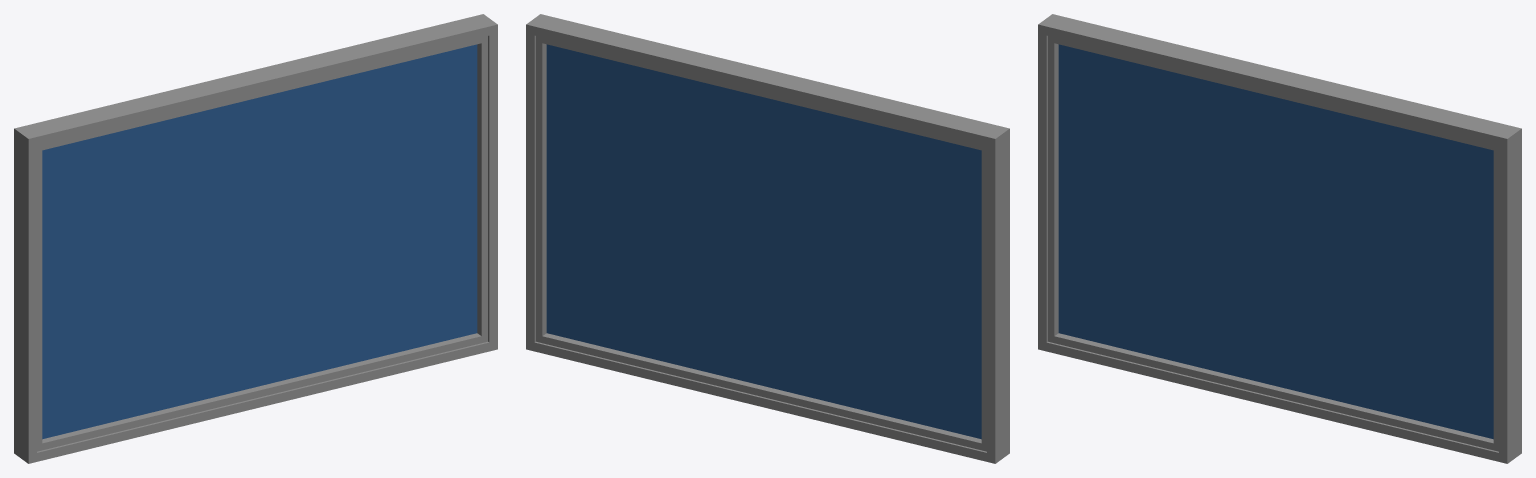
Rendered from Ventanilla.fbx.
The picture shows the model from 3 angles, left to right: view 1: azimuth 30°, elevation 25°; view 2: azimuth 150°, elevation 25°; view 3: azimuth 330°, elevation 25°; orthographic projection.
Parts seen in each view (by area): view 1: Crsital_ventanilla02; view 2: Crsital_ventanilla02; view 3: Crsital_ventanilla02.
Part boxes in pixels (box(x1,y1,x2,y2)): Crsital_ventanilla02: box(14, 14, 497, 463); Crsital_ventanilla02: box(526, 14, 1009, 463); Crsital_ventanilla02: box(1038, 14, 1521, 463).
Bounding box in the file's own units: 111 × 73.75 × 5.9.
